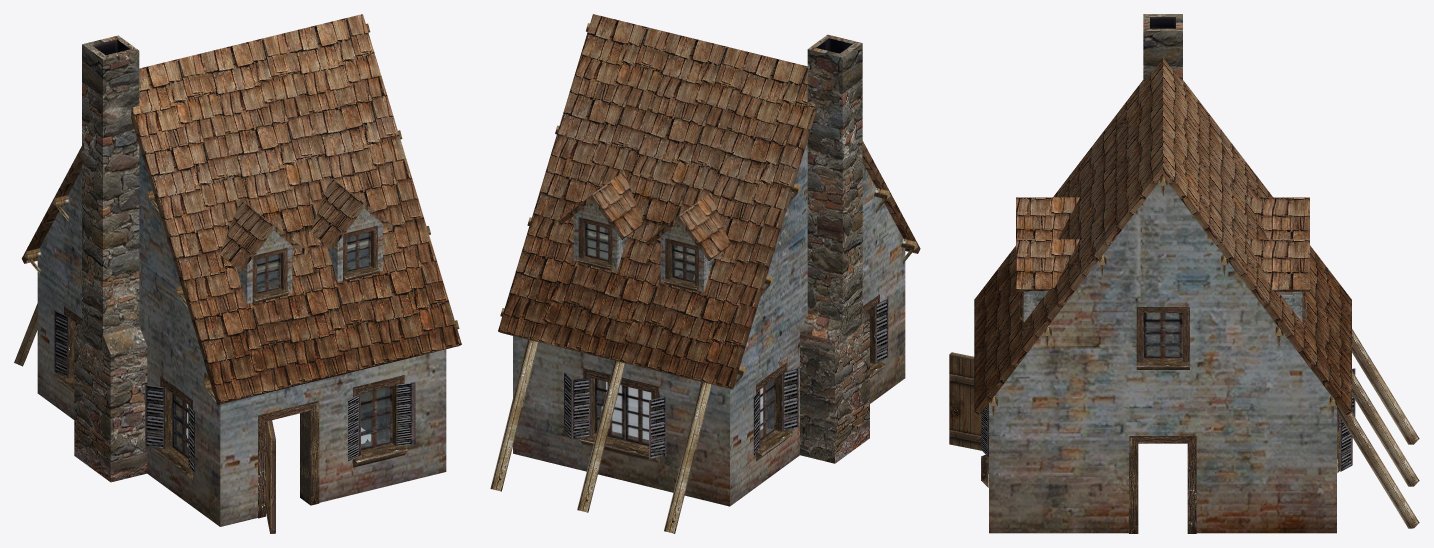
The model's file is farm_barn.glb.
The picture shows the model from 3 angles, left to right: view 1: azimuth 30°, elevation 25°; view 2: azimuth 150°, elevation 25°; view 3: azimuth 270°, elevation 25°; orthographic projection. The views are drawn at different scales.
Visible parts, largest first — view 1: farm_barn; view 2: farm_barn; view 3: farm_barn.
Boxes of the visible parts, bbox=[...] form: farm_barn: bbox=[14, 14, 461, 533]; farm_barn: bbox=[490, 14, 920, 533]; farm_barn: bbox=[949, 14, 1419, 533].
Size of the model in its own units: 6 by 8.81 by 9.31.
13 materials, 13 textured.
